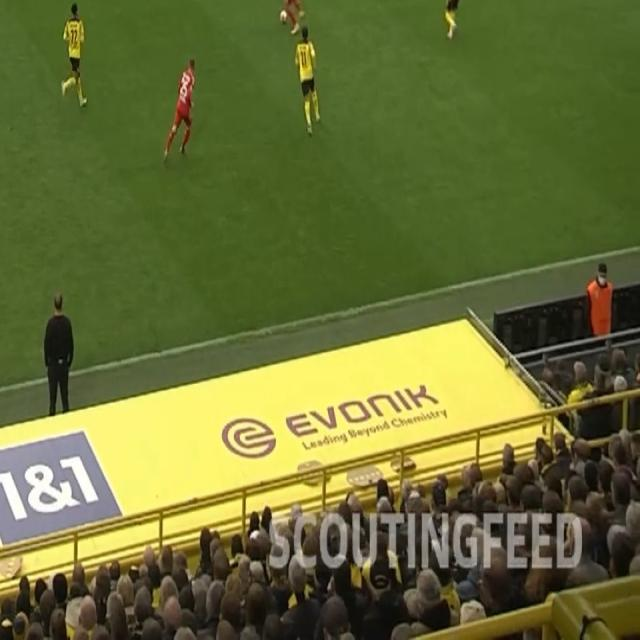ball: (279, 8, 289, 24)
